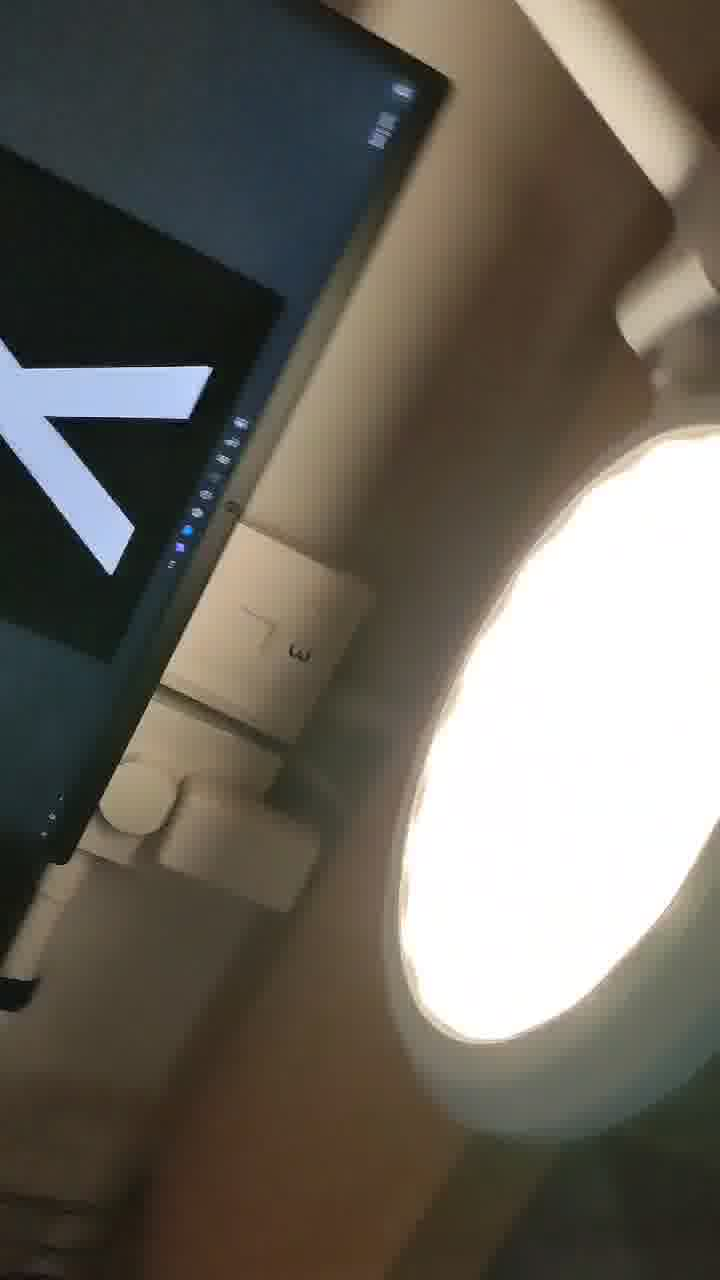X: (1, 181, 289, 620)
